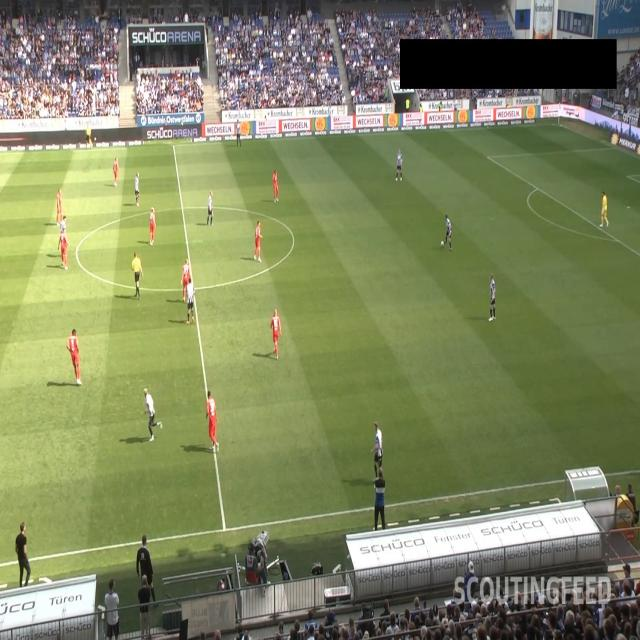ball: (440, 240, 444, 248)
